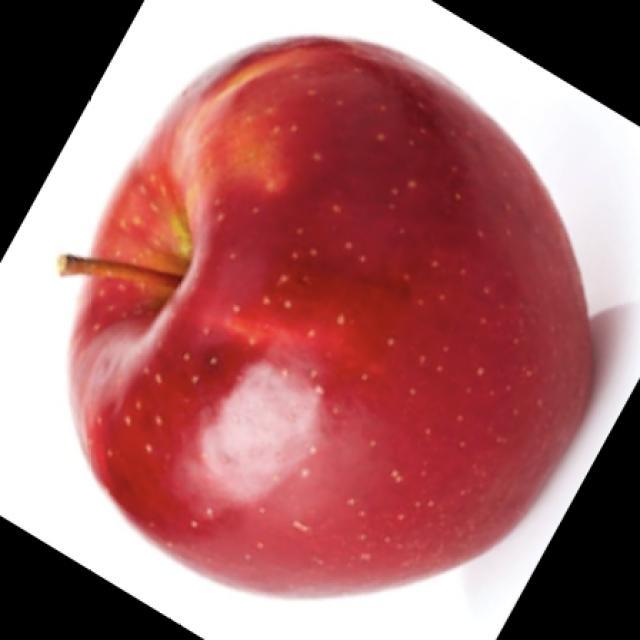Fresh Apple: (99, 52, 618, 588)
